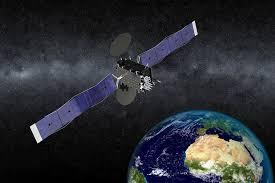antenna: (107, 31, 135, 58), (115, 80, 138, 107)
body: (108, 58, 155, 98)
solar: (28, 74, 118, 148), (137, 19, 200, 71)
